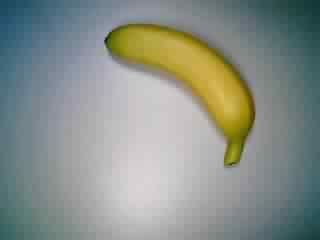banana: (100, 19, 260, 172)
